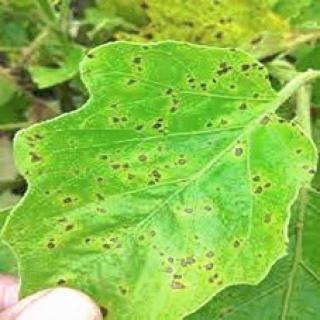leaf spot: (18, 41, 300, 295)
